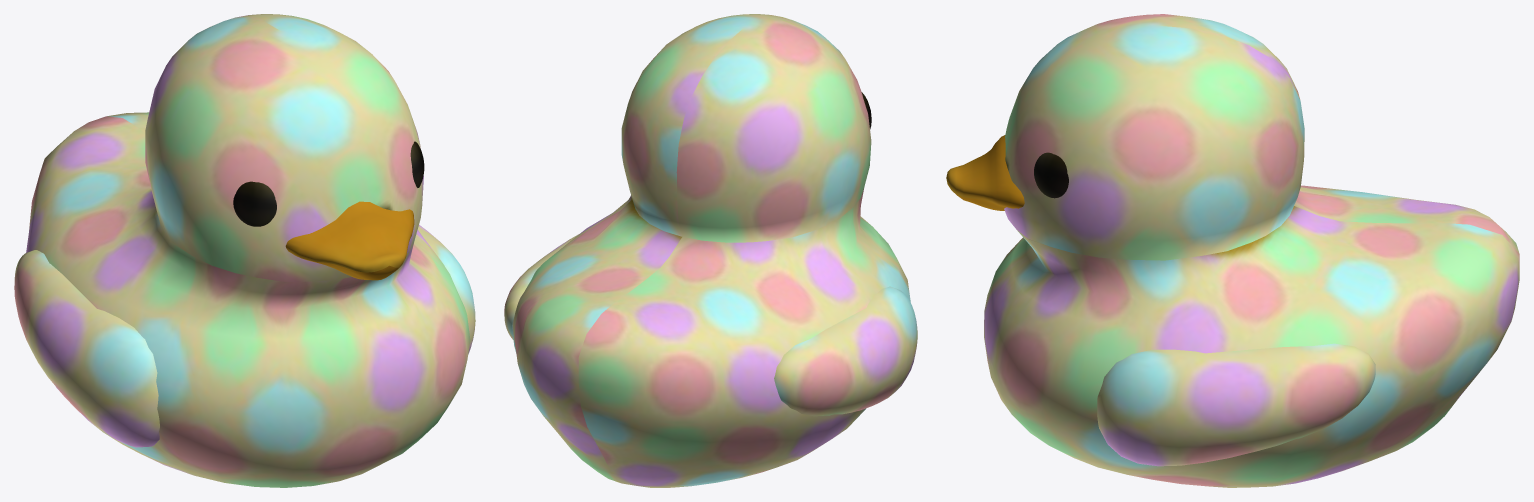
The model's file is dirty-rubber-duck.glb.
3 renders of one model, left to right at view 1: azimuth 30°, elevation 25°; view 2: azimuth 150°, elevation 25°; view 3: azimuth 270°, elevation 25°, orthographic. The views are drawn at different scales.
Visible parts, largest first — view 1: Duck_Duck_0; view 2: Duck_Duck_0; view 3: Duck_Duck_0.
Part boxes in pixels (x1,y1,x2,y2): Duck_Duck_0: [14, 14, 475, 487]; Duck_Duck_0: [504, 14, 917, 487]; Duck_Duck_0: [946, 14, 1519, 487].
Size of the model in its own units: 0.34 by 0.3711 by 0.4423.
Materials: 1 (1 with a texture image).
